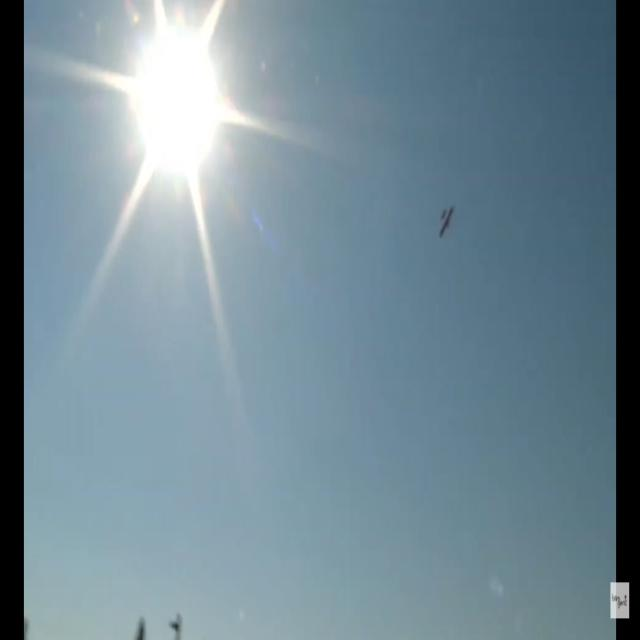iha: (436, 204, 456, 239)
